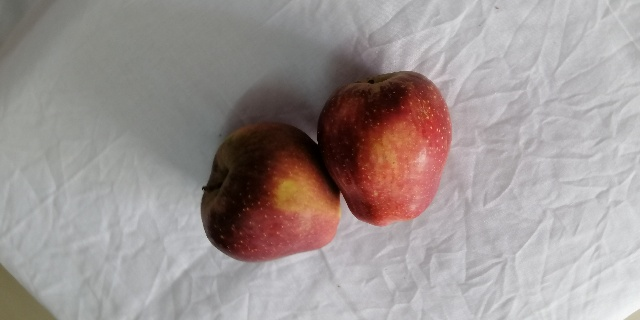apple_kashmir: (198, 124, 346, 263), (319, 74, 450, 226)
